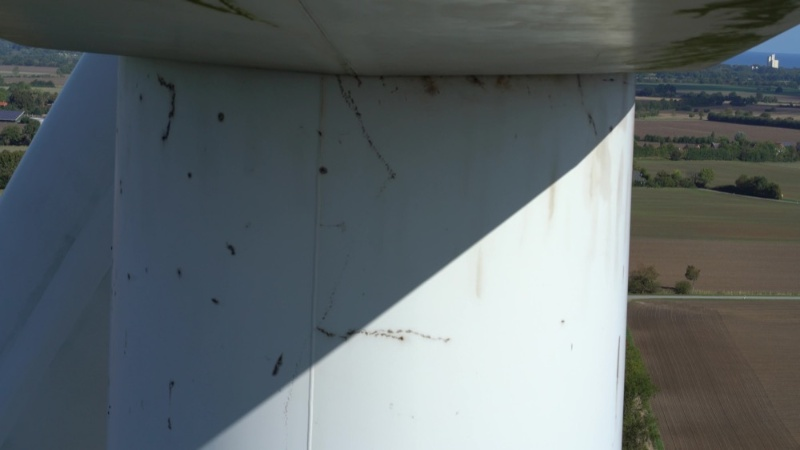weldseam: (303, 72, 331, 450)
